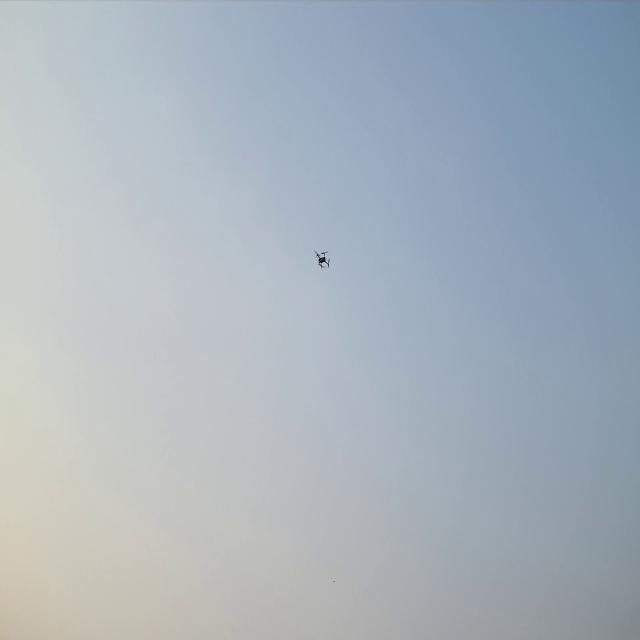UAV: (313, 246, 333, 272)
